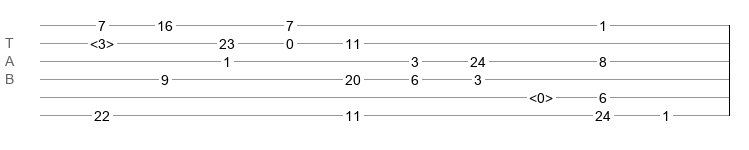0: (286, 36, 294, 46)
1: (223, 54, 231, 64), (599, 18, 607, 28), (662, 108, 670, 118)
11: (345, 108, 361, 118), (345, 36, 361, 46)
16: (157, 18, 173, 28)
20: (345, 72, 361, 82)
22: (94, 108, 110, 118)
23: (219, 36, 235, 46)
24: (470, 54, 486, 64), (595, 108, 611, 118)
3: (411, 54, 419, 64), (474, 72, 482, 82)
6: (411, 72, 419, 82), (599, 90, 607, 100)
7: (98, 18, 106, 28), (286, 18, 294, 28)
8: (599, 54, 607, 64)
9: (161, 72, 169, 82)
harmonic: (90, 36, 114, 46), (529, 90, 553, 100)
